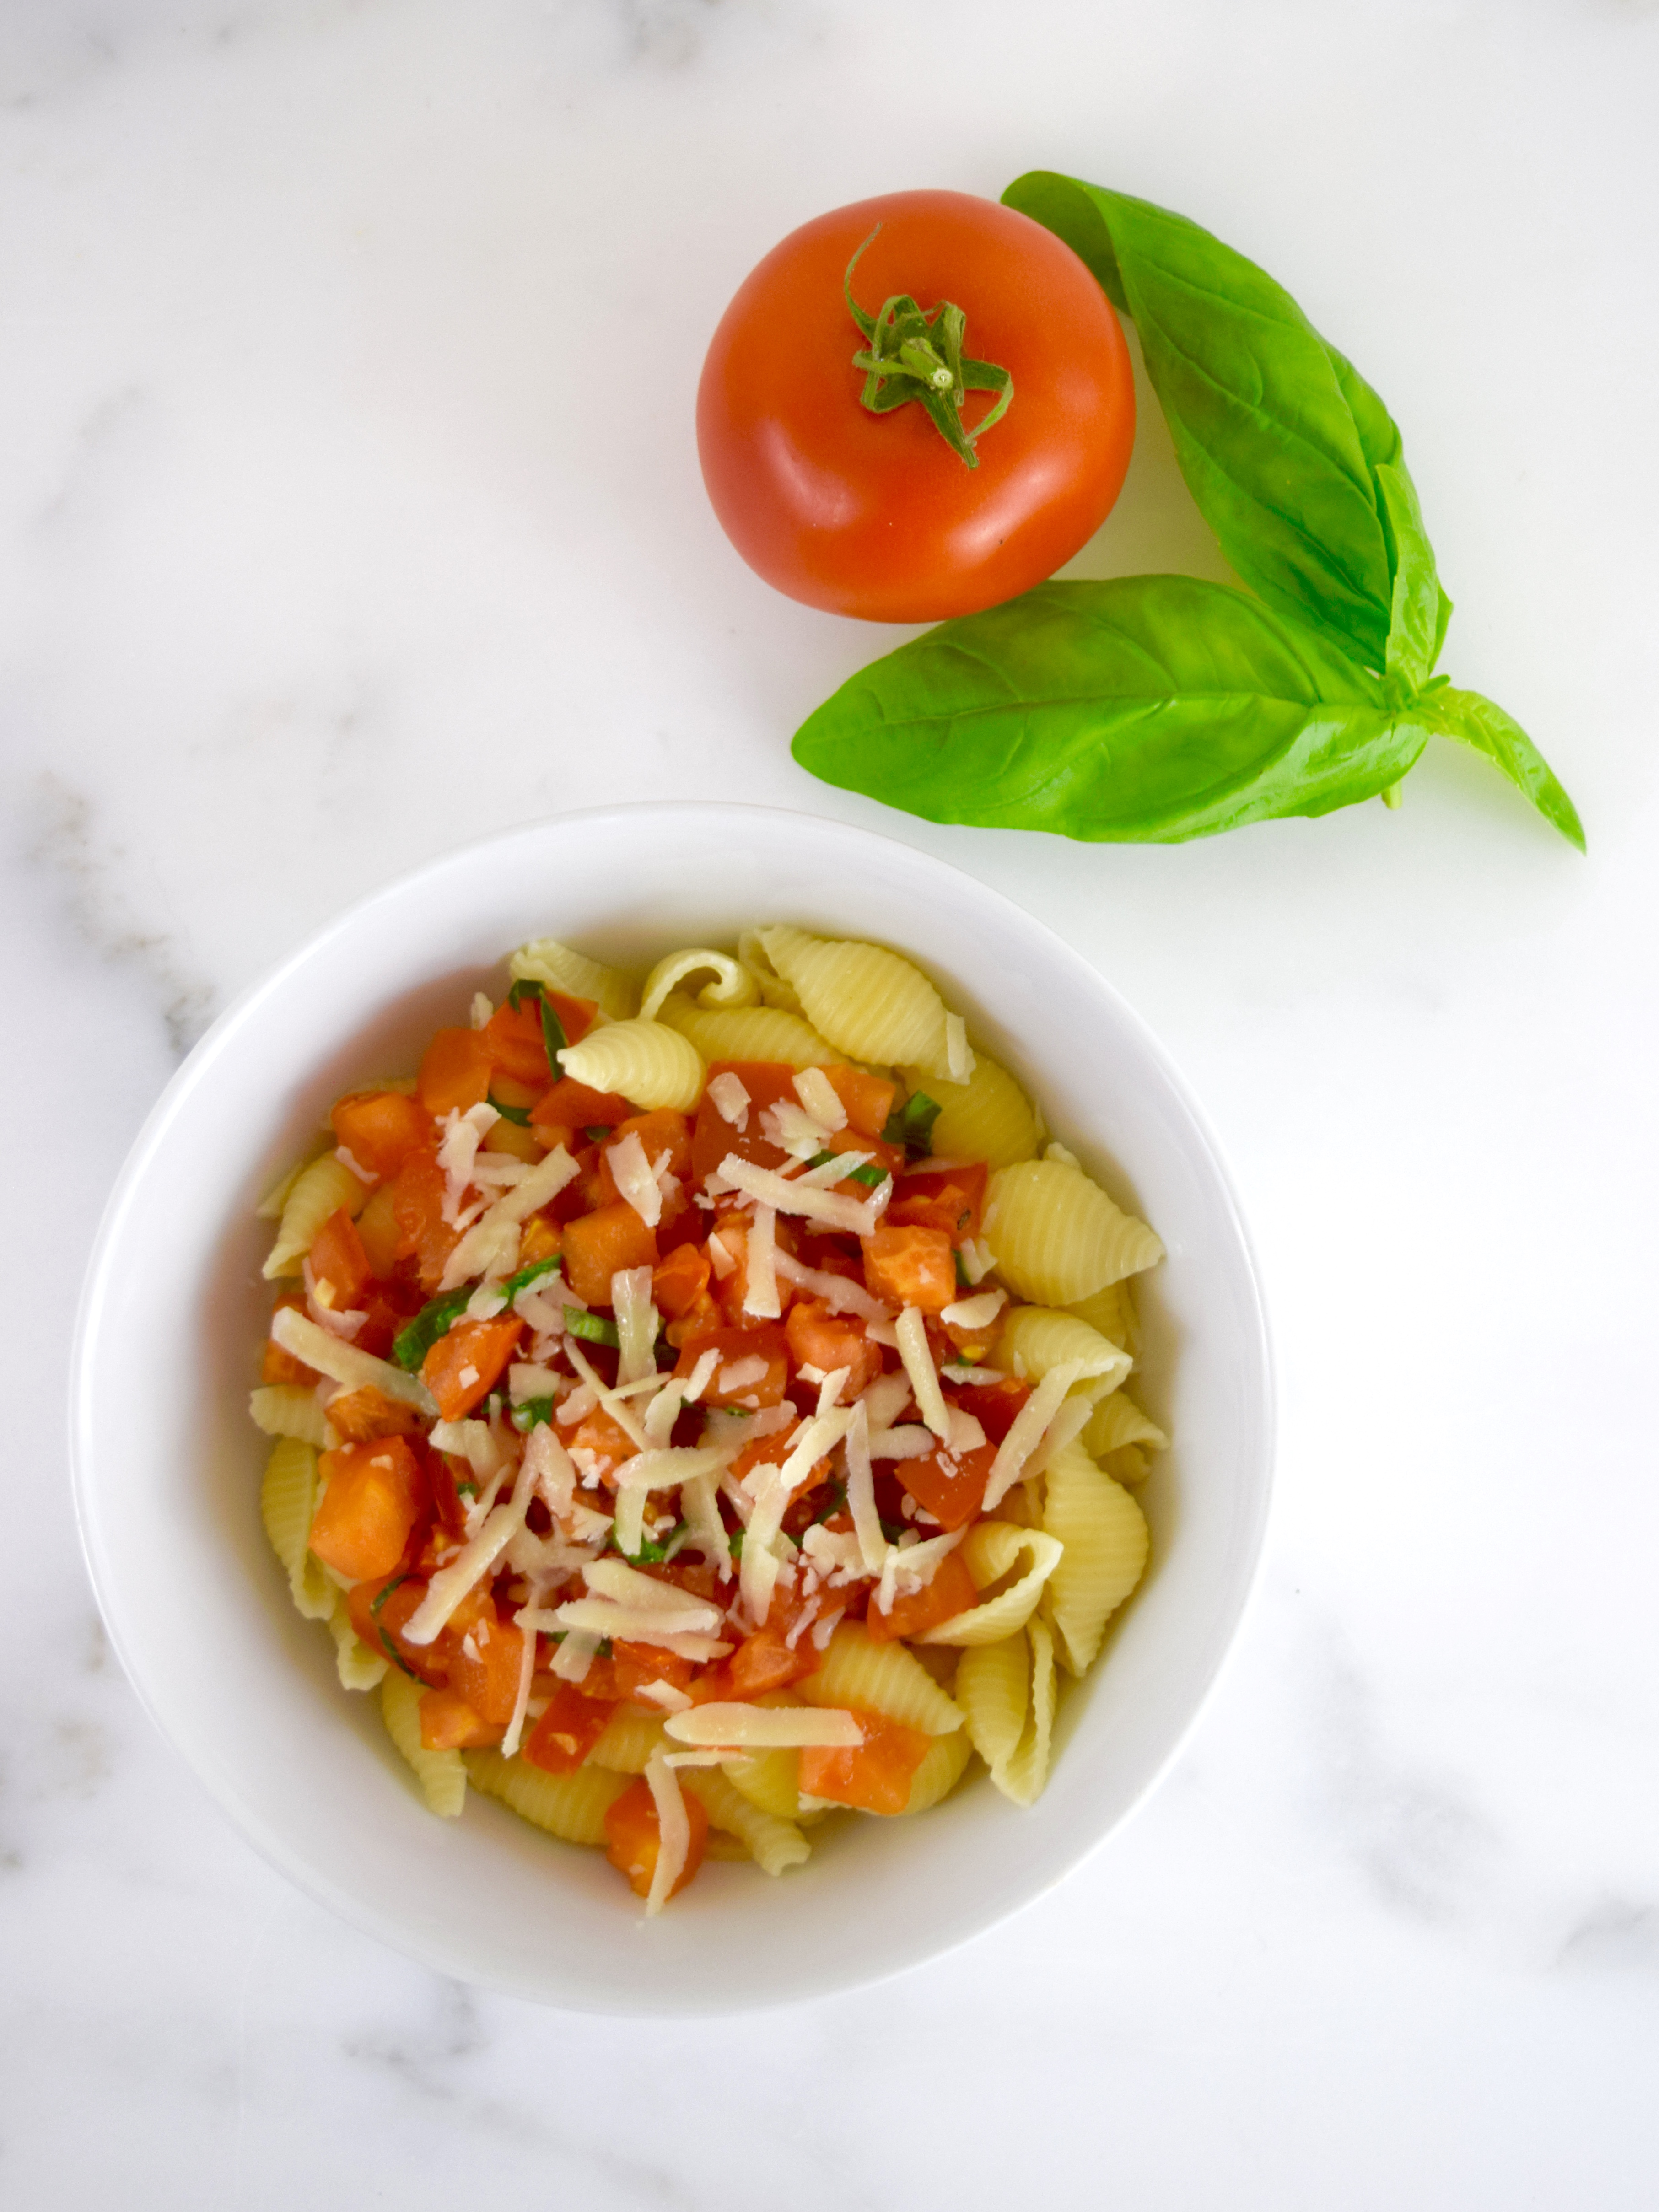plain spaghetti: (476, 1022, 1121, 1763)
